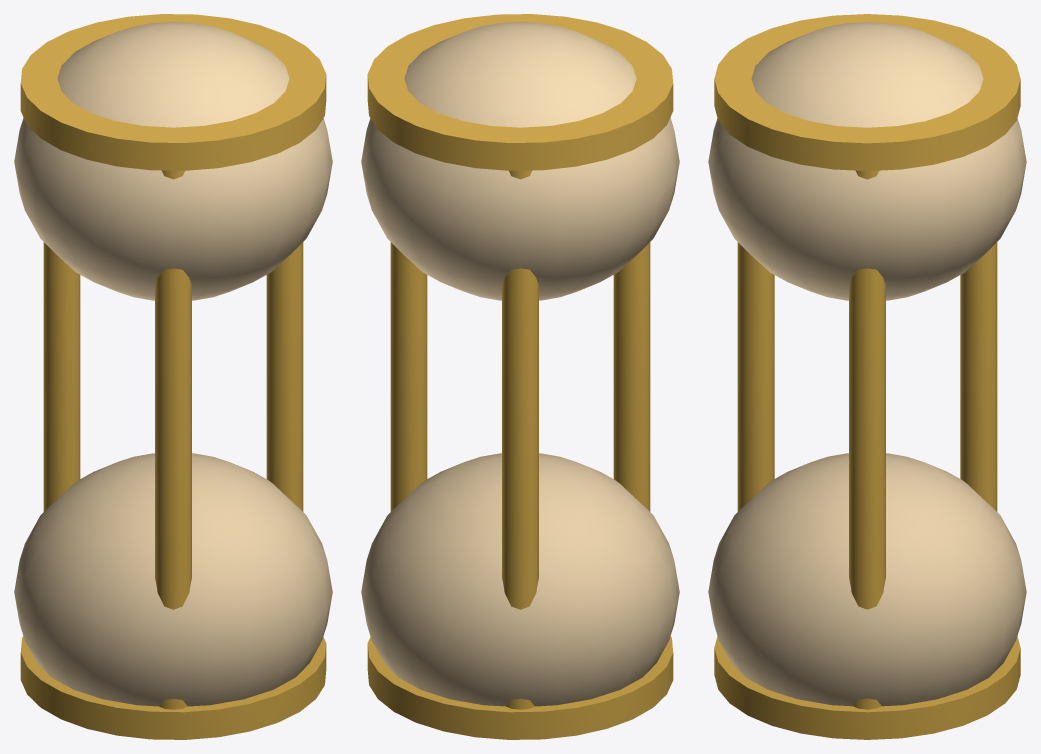
Rendered from zone_library_hourglass.glb.
3 renders of one model, left to right at view 1: azimuth 30°, elevation 25°; view 2: azimuth 150°, elevation 25°; view 3: azimuth 270°, elevation 25°, orthographic.
Visible parts, largest first — view 1: zone_library_hourglass; view 2: zone_library_hourglass; view 3: zone_library_hourglass.
Part boxes in pixels (x1=…): zone_library_hourglass: x1=14, y1=14, x2=332, y2=739; zone_library_hourglass: x1=361, y1=14, x2=679, y2=739; zone_library_hourglass: x1=708, y1=14, x2=1026, y2=739.
Bounding box in the file's own units: 1.04 × 2.43 × 1.04.
